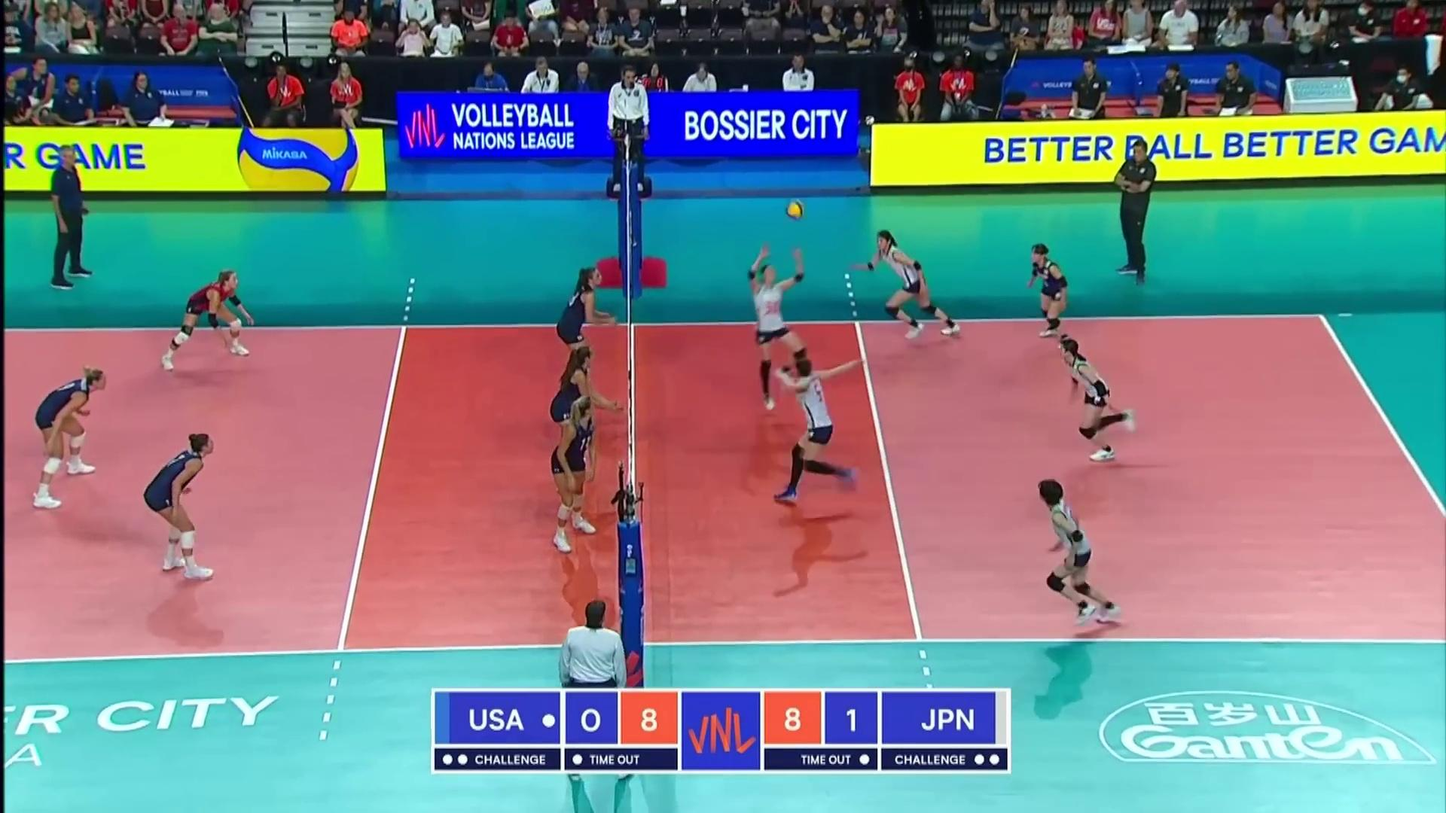player: (774, 351, 862, 504), (1035, 481, 1124, 626), (755, 237, 823, 416), (862, 225, 962, 346), (145, 432, 220, 577), (30, 368, 106, 508), (1065, 331, 1139, 467), (541, 258, 601, 419), (548, 393, 606, 559), (162, 269, 254, 368), (551, 337, 606, 496), (1026, 244, 1072, 341)
refree: (559, 603, 641, 781), (605, 65, 655, 197)
